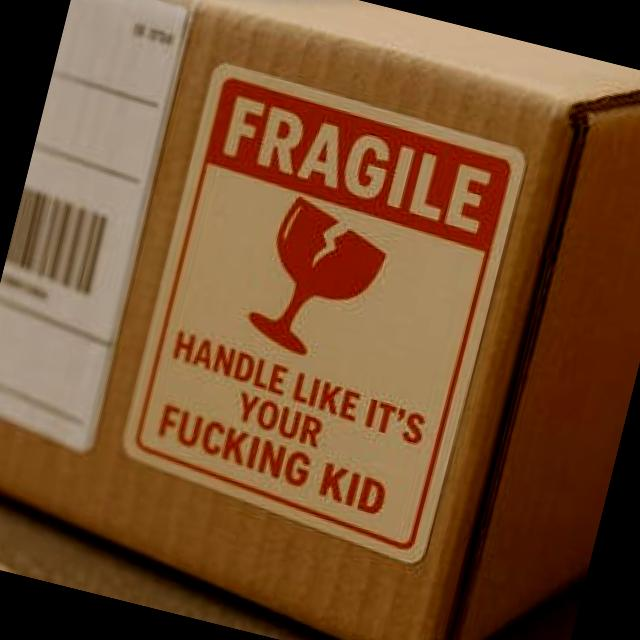fragile_label: (126, 68, 534, 558)
